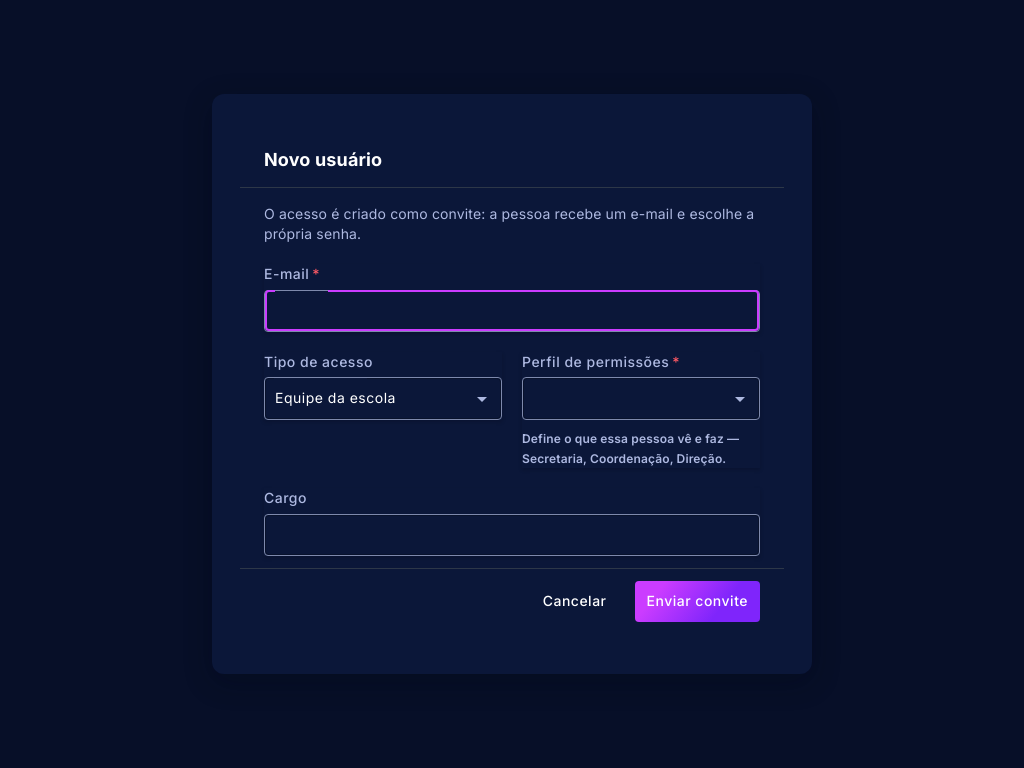
Test case: UserFormDialog › refuses to send an invitation with no address to send it to
Click the dropdown named "Perfil de permissões" at (641, 399), box 533,388 -> 749,409
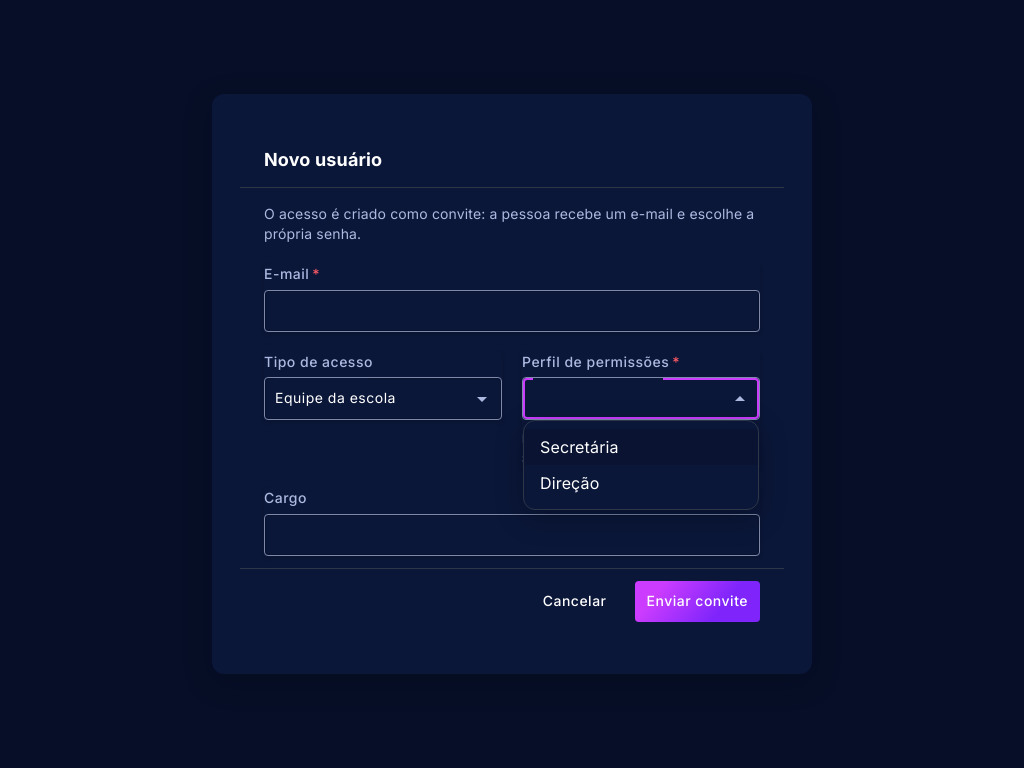
Click the option "Secretária" at (641, 447), box 524,429 -> 758,465
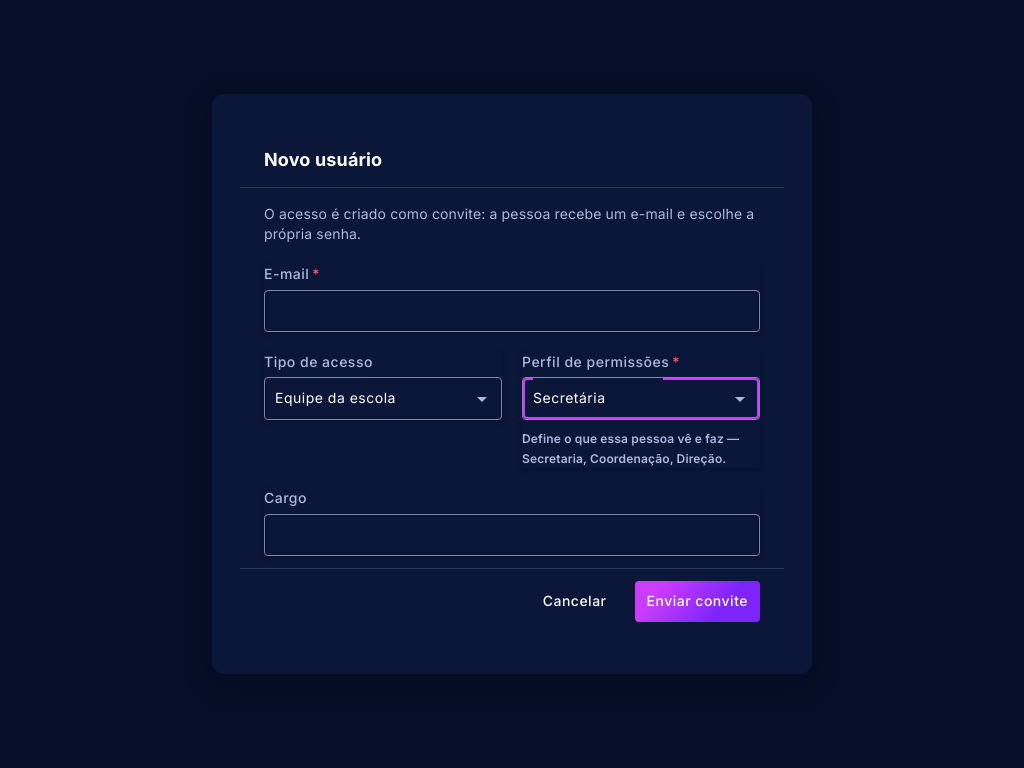
Click the button "Enviar convite" at (697, 601), box 634,581 -> 760,622
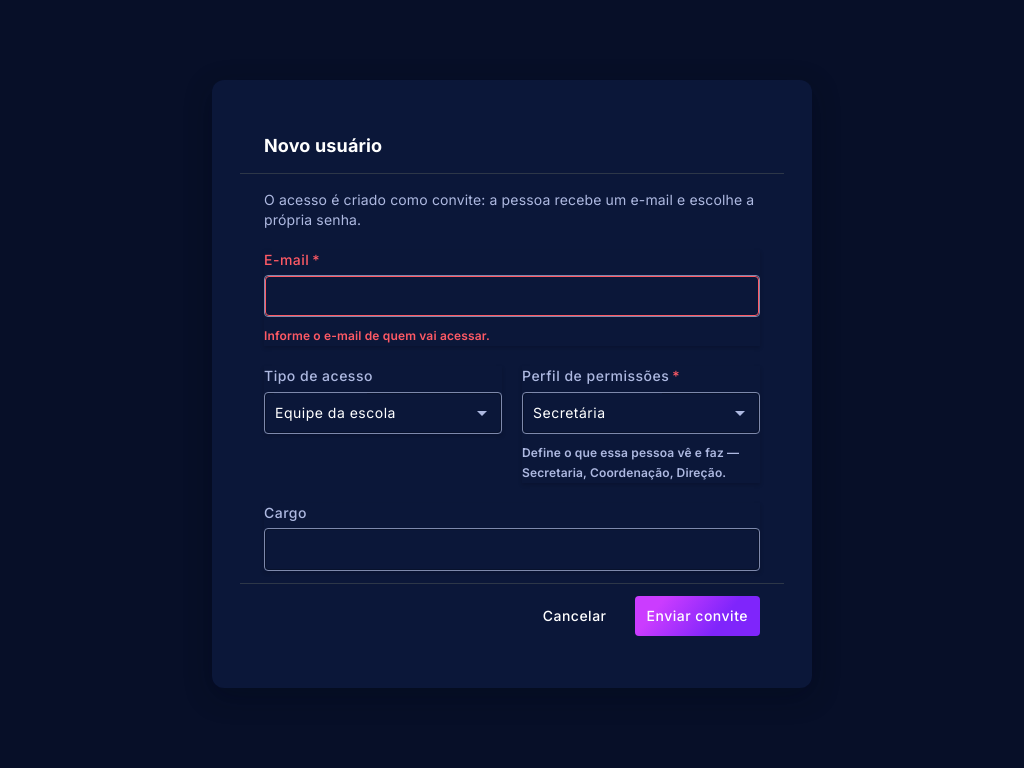
Expected: the text "Informe o e-mail de quem vai acessar." is shown, 264,328 -> 490,343
